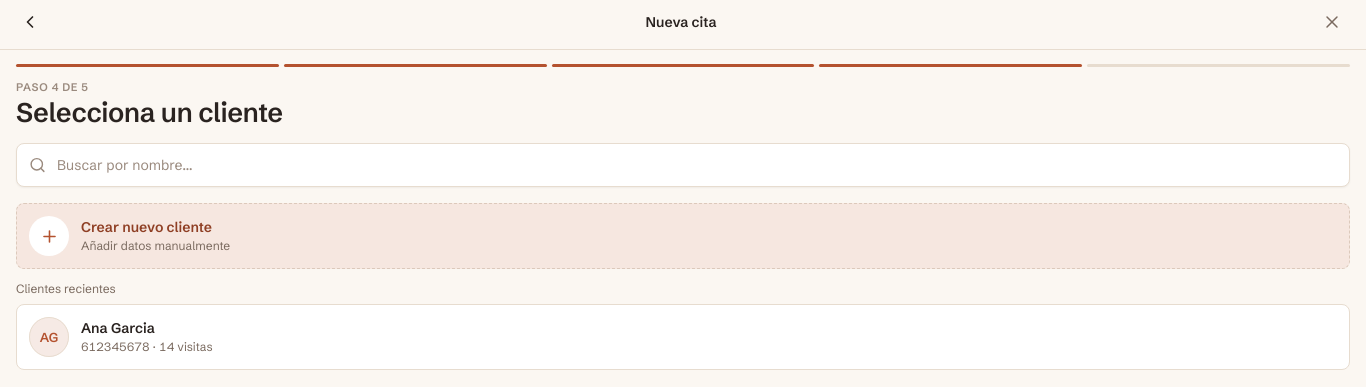
Test: ClientStep › con texto en el buscador no pinta la etiqueta 'Clientes recientes'
In the field with placeholder "Buscar por nombre...": (683, 165) left=16, top=143, right=1350, bottom=187, type "Carla"
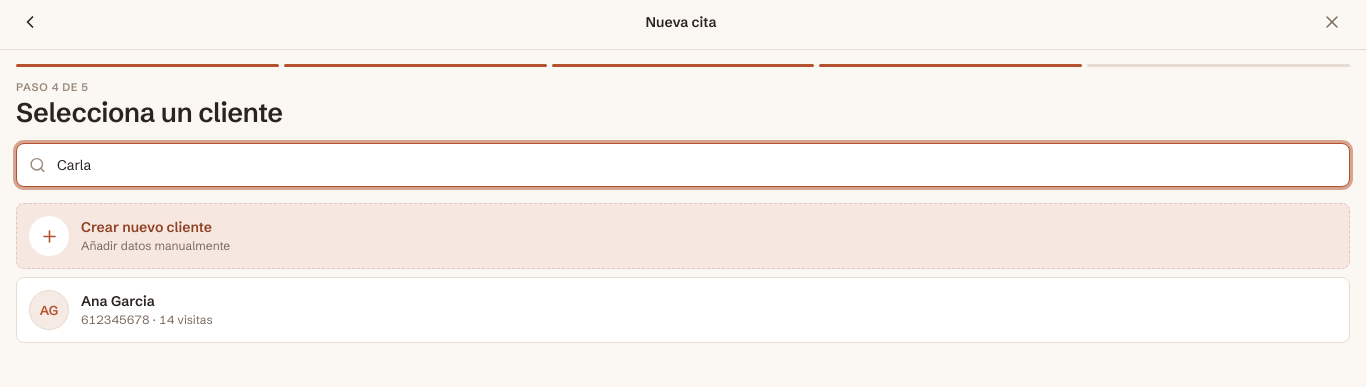
expect the text "Clientes recientes" is gone: met
